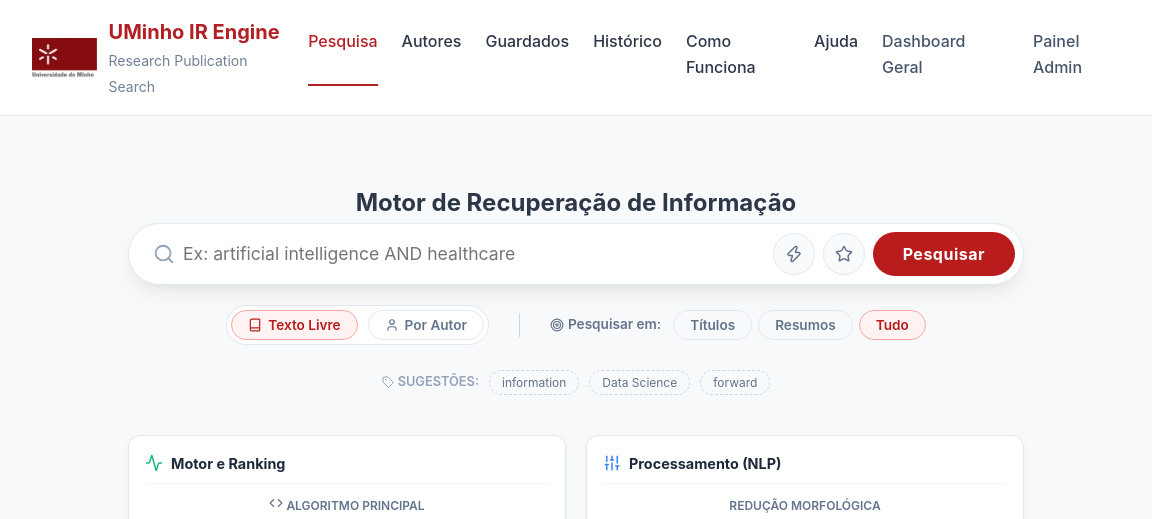
REQ-F92: Deve realizar fluxo completo de pesquisa e exibir resultados
The width and height of the screenshot is (1152, 519).
In the field named "Escreva a sua pesquisa aqui": (474, 254) [183,233,765,274], type "Inteligência Artificial"
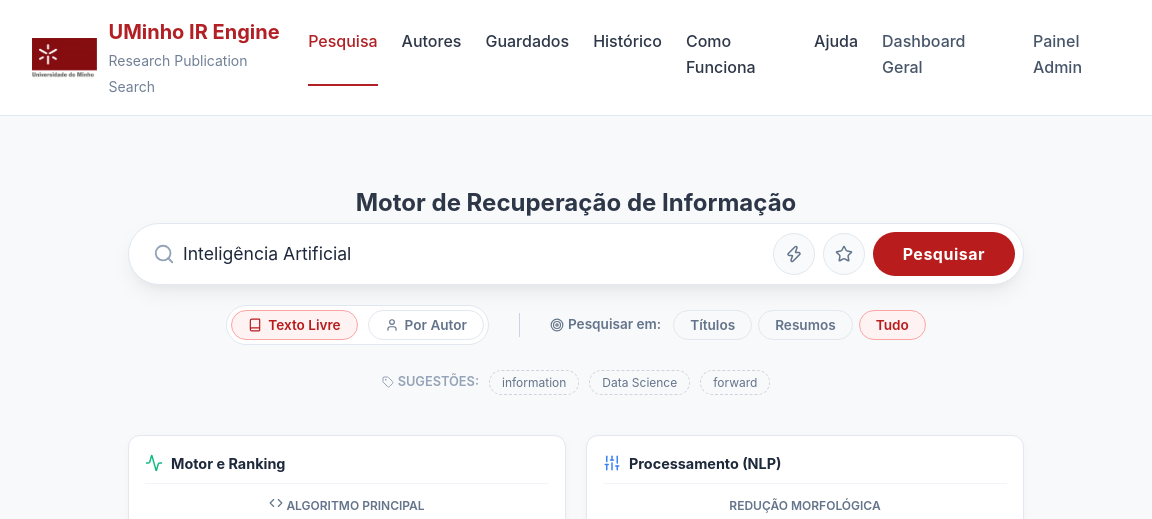
# Clicar no botão de pesquisa (procurando pelo texto "Pesquisar")
Click the button "Pesquisar": (944, 254) [873,232,1015,276]
(page scrolled)
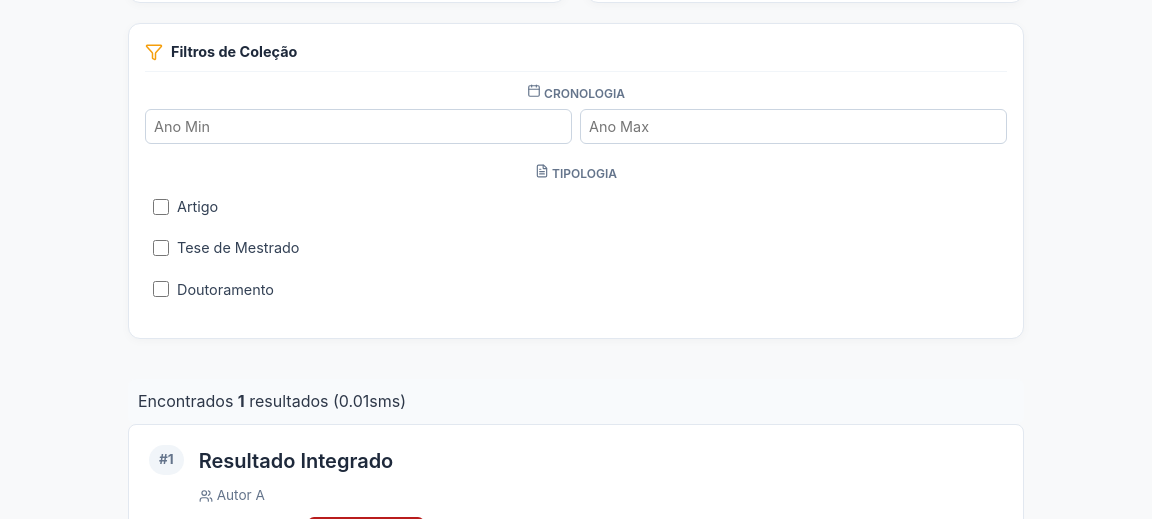
Expected: the link "Resultado Integrado" is shown, [199,445,393,477]
Expected: the text "Encontrados 1 resultados (0.01sms)" is shown, [138,389,406,414]
